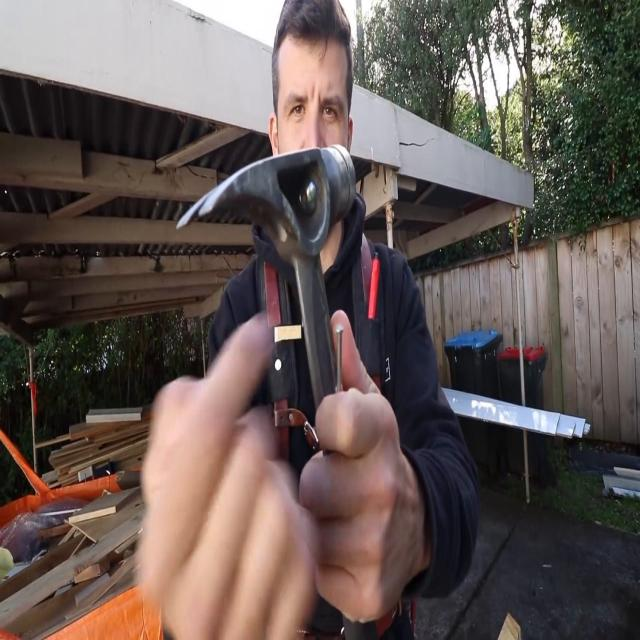hammer: (177, 144, 356, 453)
